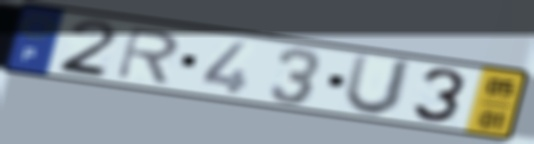2: (58, 18, 122, 81)
3: (409, 66, 473, 125), (268, 45, 324, 107)
4: (199, 40, 251, 95)
R: (113, 25, 183, 87)
U: (340, 51, 417, 119)
